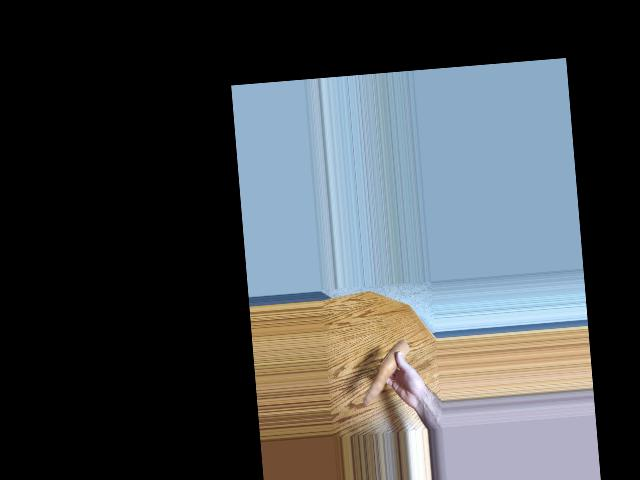sweet_potato: (360, 344, 414, 404)
